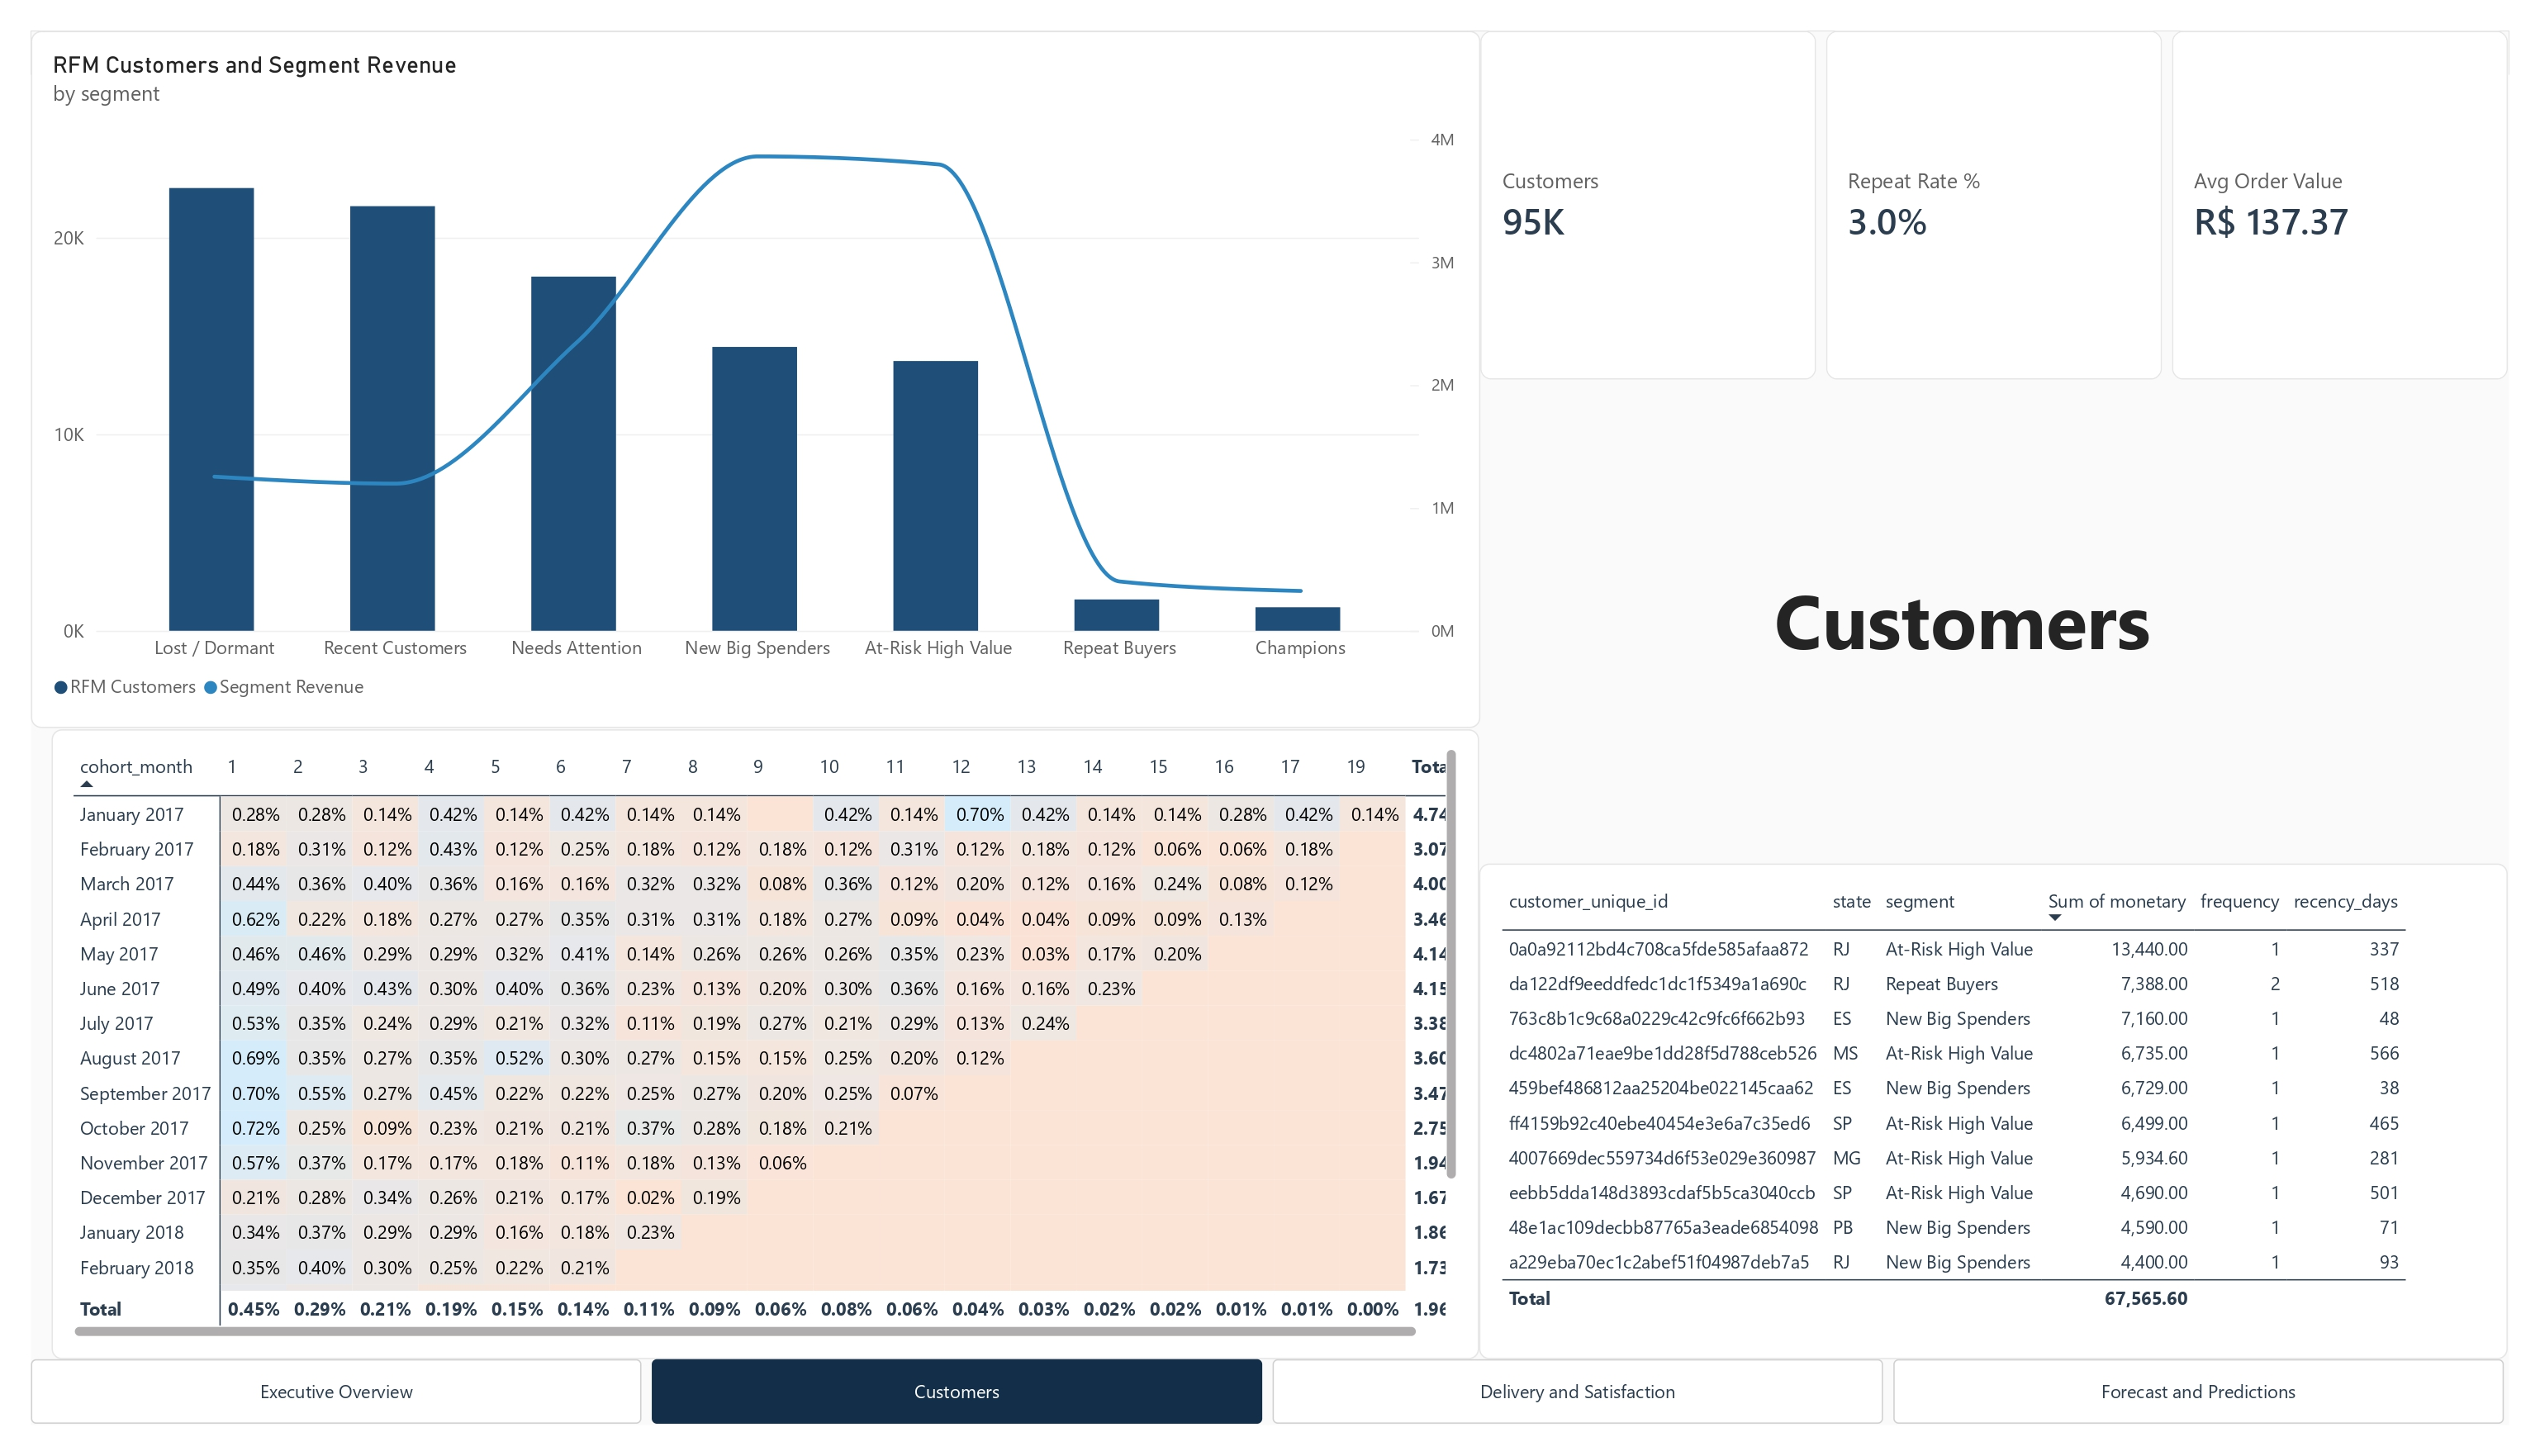

The page's visual inventory and layout, read from the dashboard file:
{"tool":"powerbi","page":{"name":"Customers","canvas":[1920,1080],"ordinal":1},"visuals":[{"type":"cardVisual","fields":{"Data":["_Measure.Customers","_Measure.Repeat Rate %","_Measure.Avg Order Value"]},"box":[1122.5,0,797.5,270],"z":0},{"type":"lineClusteredColumnComboChart","fields":{"Category":["customer_rfm.segment"],"Y":["_Measure.RFM Customers"],"Y2":["_Measure.Segment Revenue"]},"box":[0,0,1122.5,540],"z":1000},{"type":"pivotTable","fields":{"Columns":["cohort_retention.months_since"],"Rows":["cohort_retention.cohort_month"],"Values":["_Measure.Retention %"]},"box":[15.9,540.6,1106.1,488.3],"z":2000},{"type":"tableEx","fields":{"Values":["customer_rfm.customer_unique_id","dim_customers.state","customer_rfm.segment","Sum(customer_rfm.monetary)","customer_rfm.frequency","customer_rfm.recency_days"]},"box":[1122,645.1,797.2,383.9],"z":3000},{"type":"textbox","box":[1351.4,415.6,552.5,195],"z":4000},{"type":"pageNavigator","box":[0,1028.9,1919.3,50],"z":5000}]}

Visuals, with their boxes on the page's 1920x1080 design canvas (x1, y1, x2, y2). These are canvas units, not pixel positions in the 2540x1456 screenshot, which may show the page scaled, cropped or inside an application window:
cardVisual - _Measure.Customers x _Measure.Repeat Rate %: 1122,0,1920,270
lineClusteredColumnComboChart - customer_rfm.segment x _Measure.RFM Customers: 0,0,1122,540
pivotTable - cohort_retention.months_since x cohort_retention.cohort_month: 16,541,1122,1029
tableEx - customer_rfm.customer_unique_id x dim_customers.state: 1122,645,1919,1029
textbox: 1351,416,1904,611
pageNavigator: 0,1029,1919,1079
